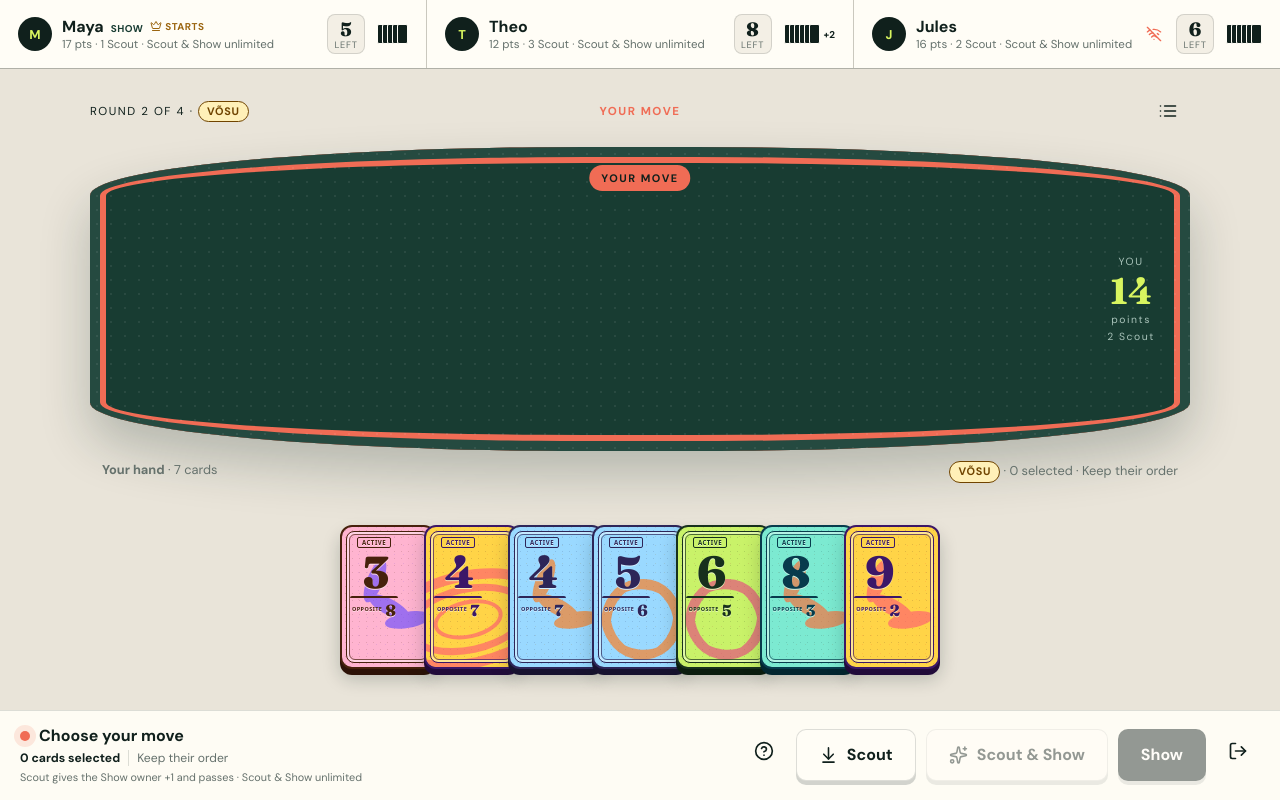
Test: GameScreen action hints › requires an explicit authoritative mode when both Võsu modes are legal
Click the button with aria-label "active 3, opposite 8". click: [388, 597]
box: [340,524,436,670]
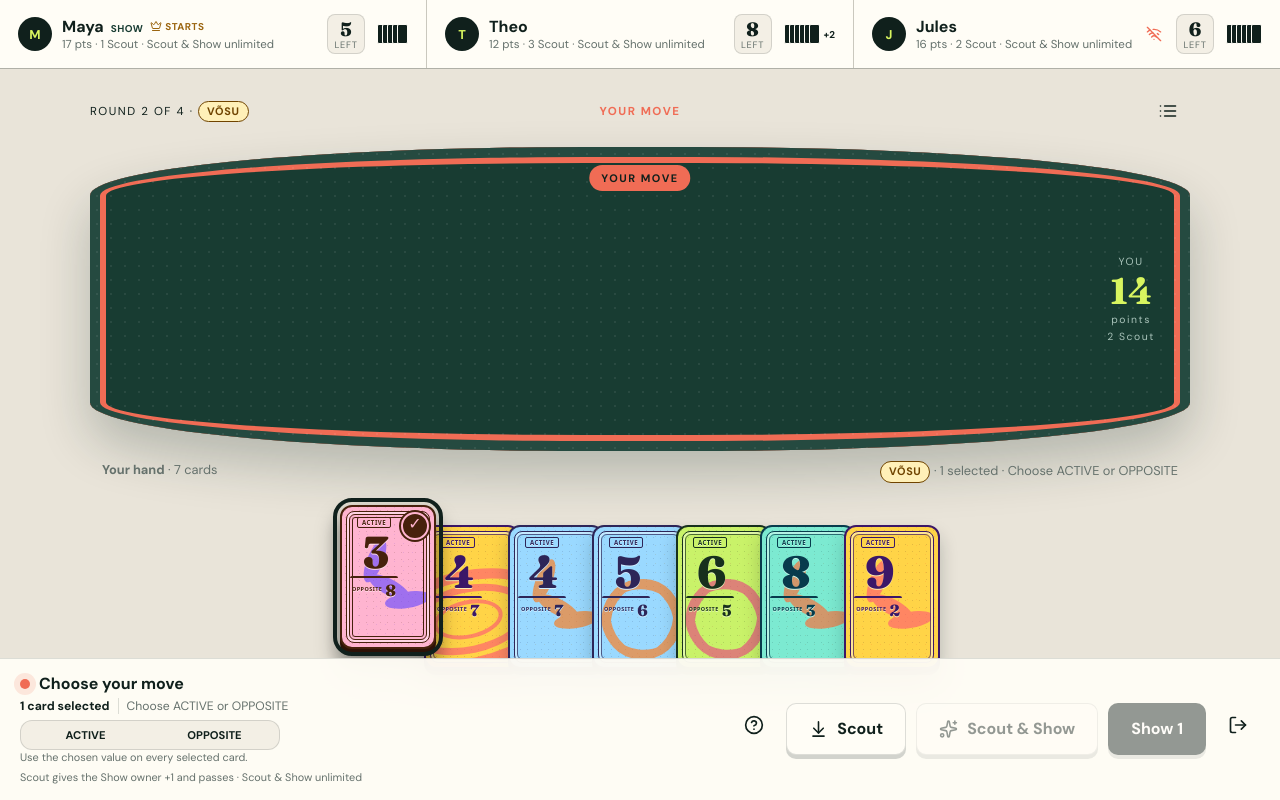
Expected: the button "Show 1" is disabled, [1108,702,1206,754]
Expected: the radio button labelled "ACTIVE" is not checked, [66,728,105,742]
Expected: the radio button labelled "OPPOSITE" is not checked
Click the radio button labelled "OPPOSITE". click: [214, 735]
box: [187,728,242,742]
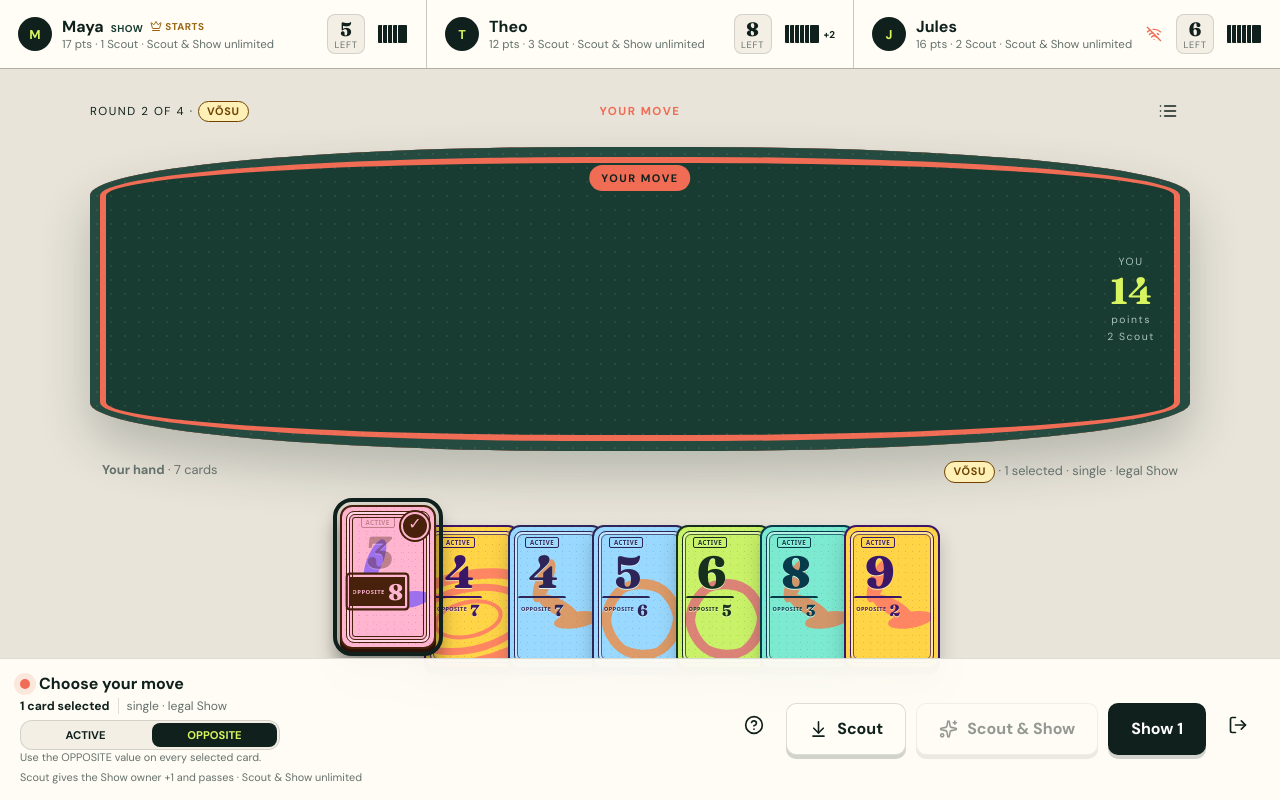
Click the button "Show 1". click: [1157, 728]
box: [1108,702,1206,754]
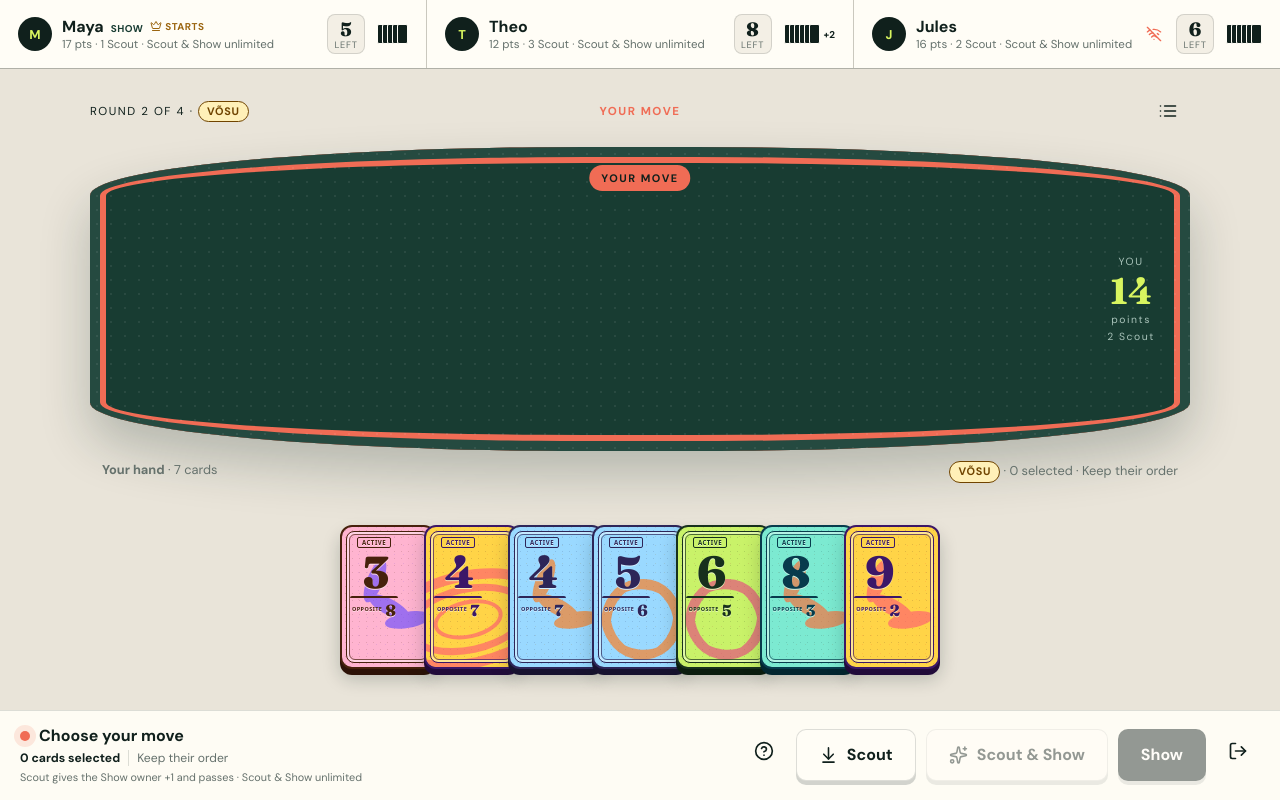
Click the button with aria-label "active 4, opposite 7". click: [472, 597]
box: [424,524,520,670]
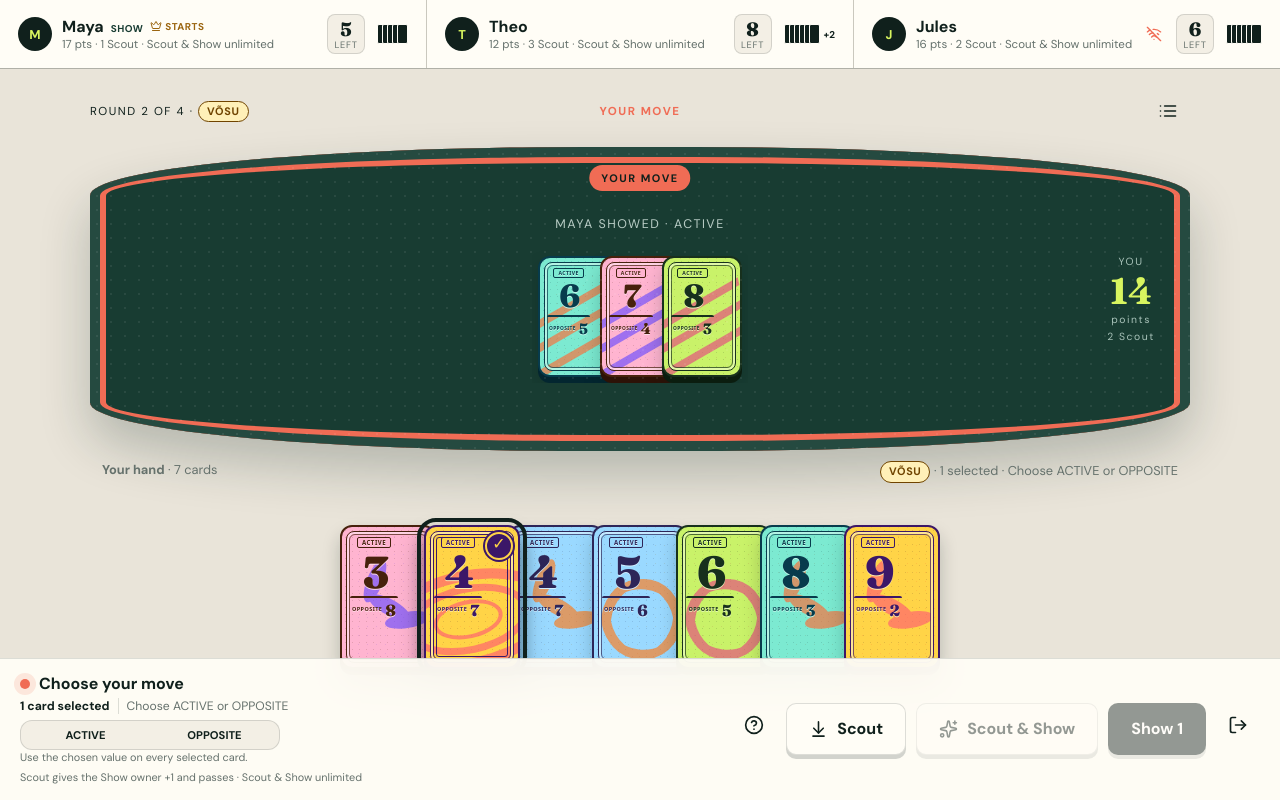
Expected: the radio button labelled "OPPOSITE" is not checked, [187,728,242,742]
